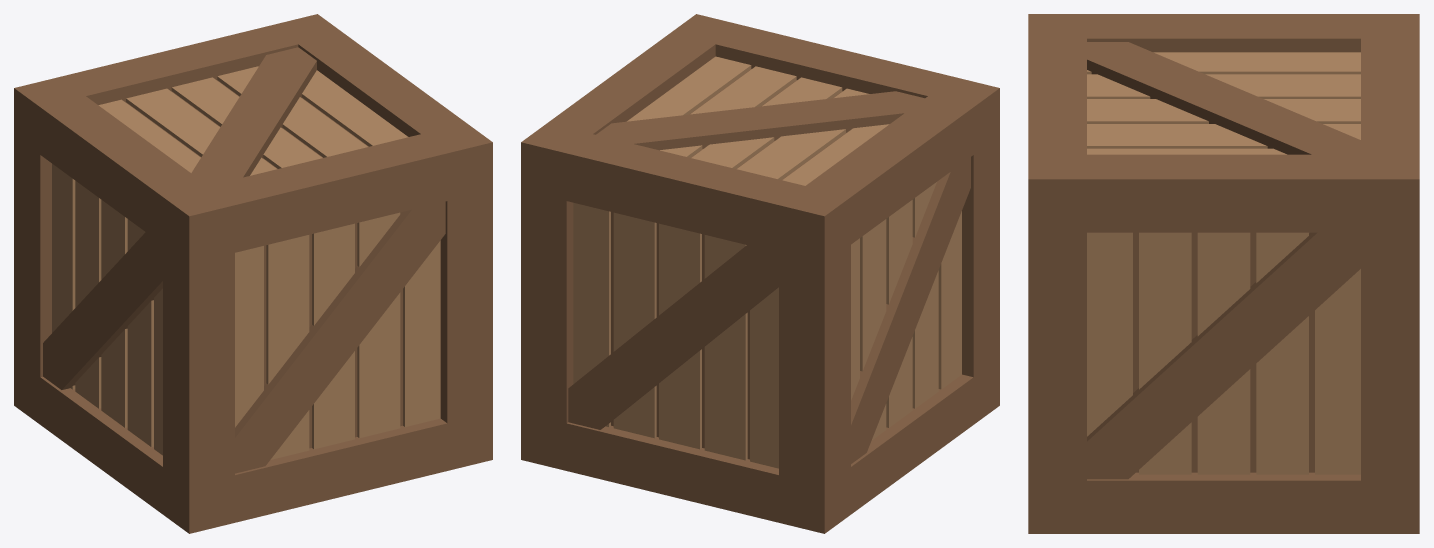
The picture shows the model from 3 angles, left to right: view 1: azimuth 30°, elevation 25°; view 2: azimuth 150°, elevation 25°; view 3: azimuth 270°, elevation 25°; orthographic projection. The views are drawn at different scales.
Visible parts, largest first — view 1: Wooden_box; view 2: Wooden_box; view 3: Wooden_box.
Boxes of the visible parts, x1,y1,x2,y2 form: Wooden_box: (14,14,492,533); Wooden_box: (521,14,999,533); Wooden_box: (1028,14,1419,533).
Size of the model in its own units: 80 by 80 by 80.
